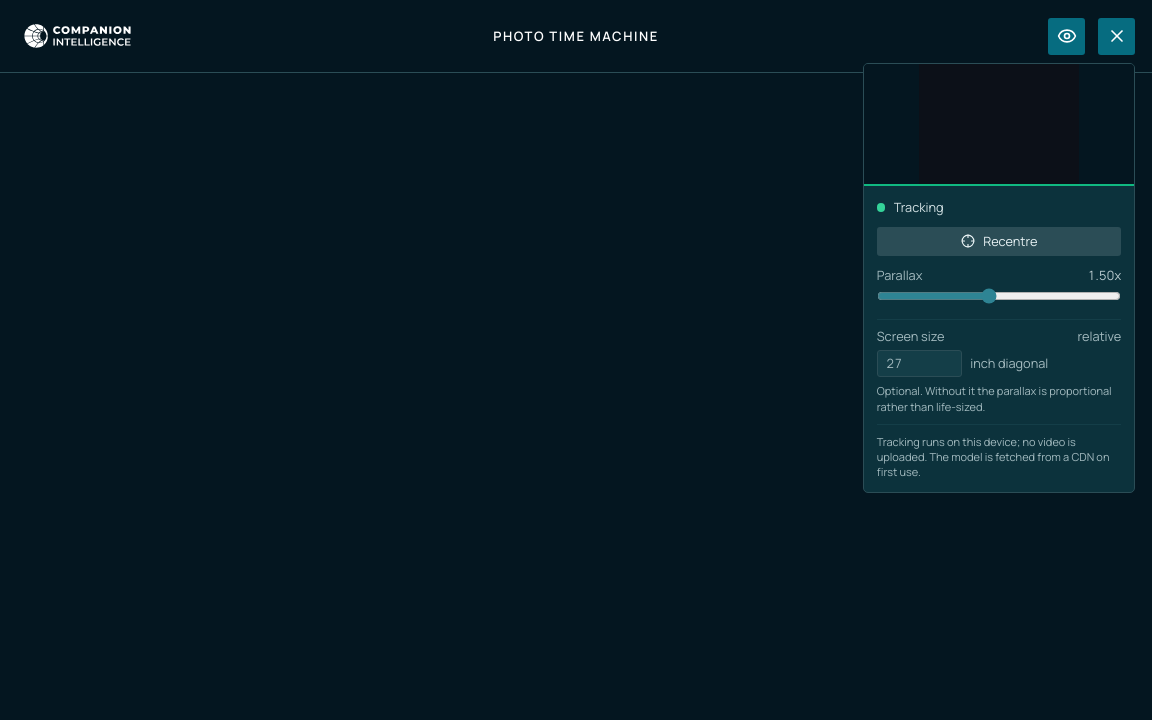
Test: display calibration › refuses an absurd diagonal instead of building an absurd frustum
Type "270" into the number field named "display diagonal in inches". click: (919, 363)
box: [877,350,962,377]
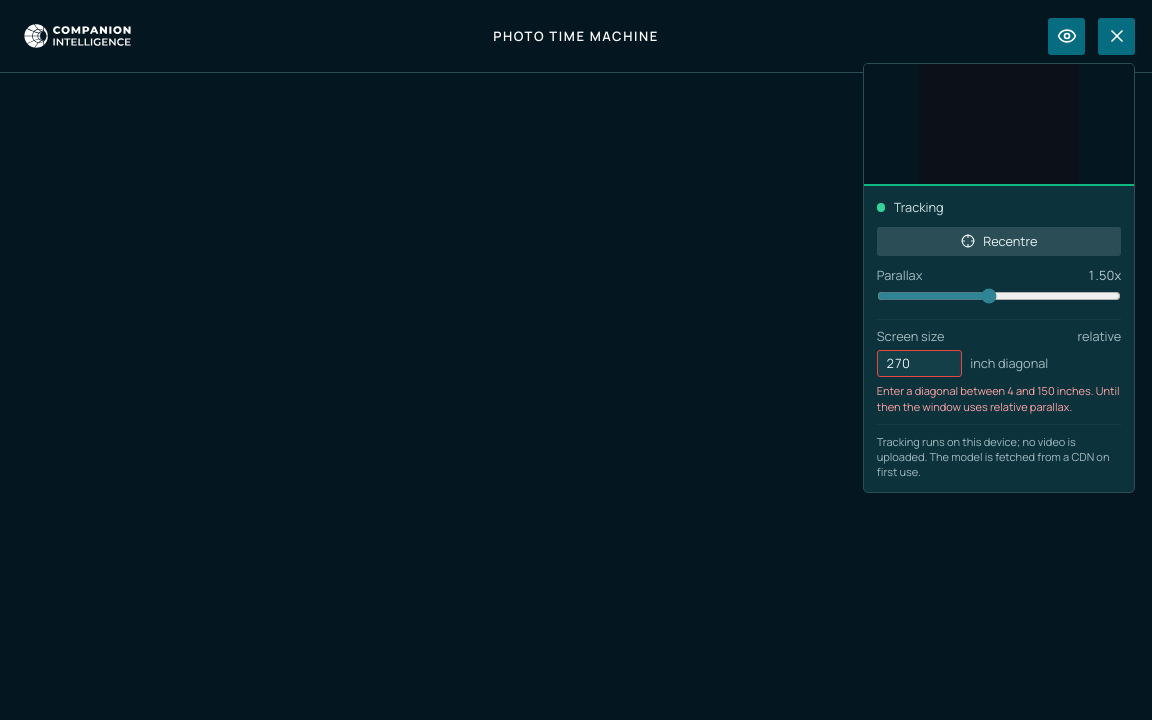
Expected: the text "relative" is shown, [1078,328,1121,345]
Result: the message that starts with "Enter a diagonal between" shows "between 4 and 150 inches" at [877,383,1121,414]
